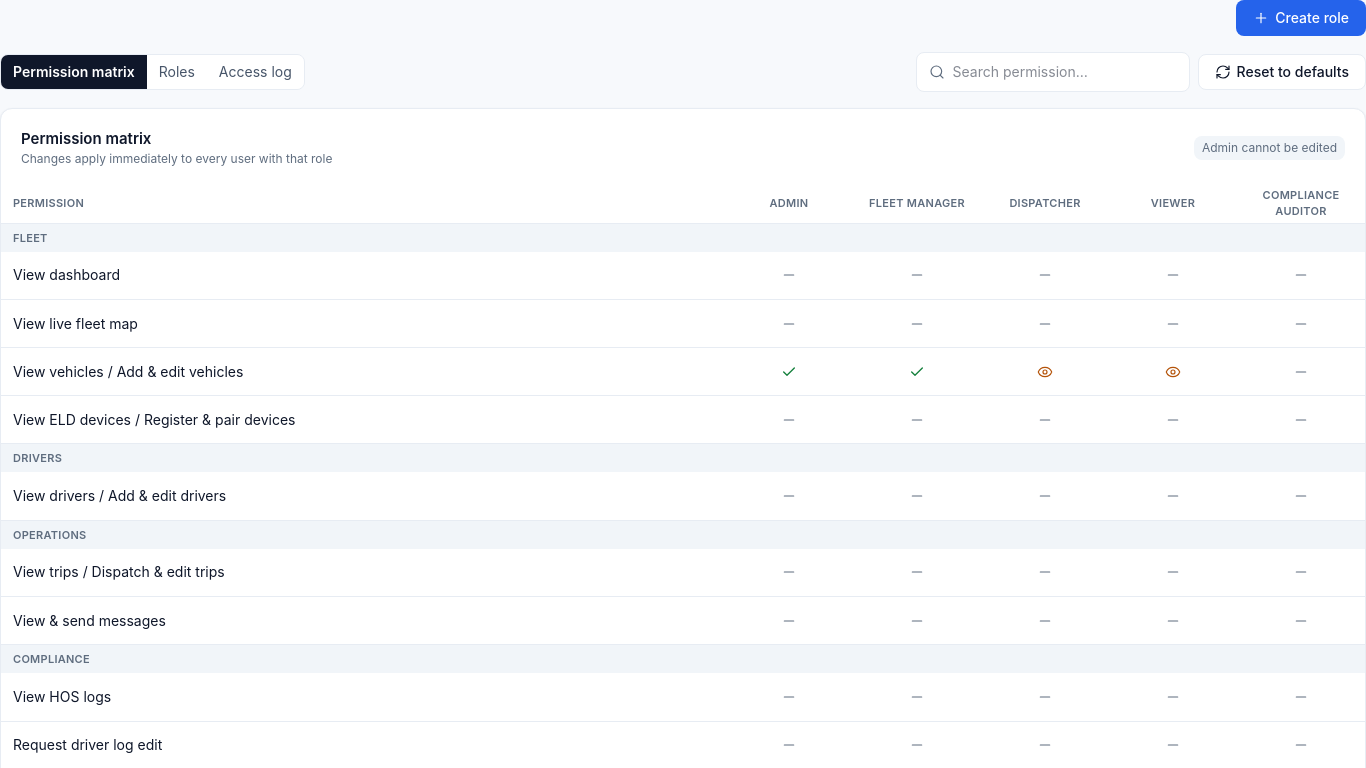
RolesPage — W-19 permission matrix › renders populated Access log entries
expect the text "View vehicles / Add & edit vehicles" is shown: met, box x1=1 y1=348 x2=725 y2=396
Click the button "Access log" at (255, 72), box x1=207 y1=55 x2=304 y2=89
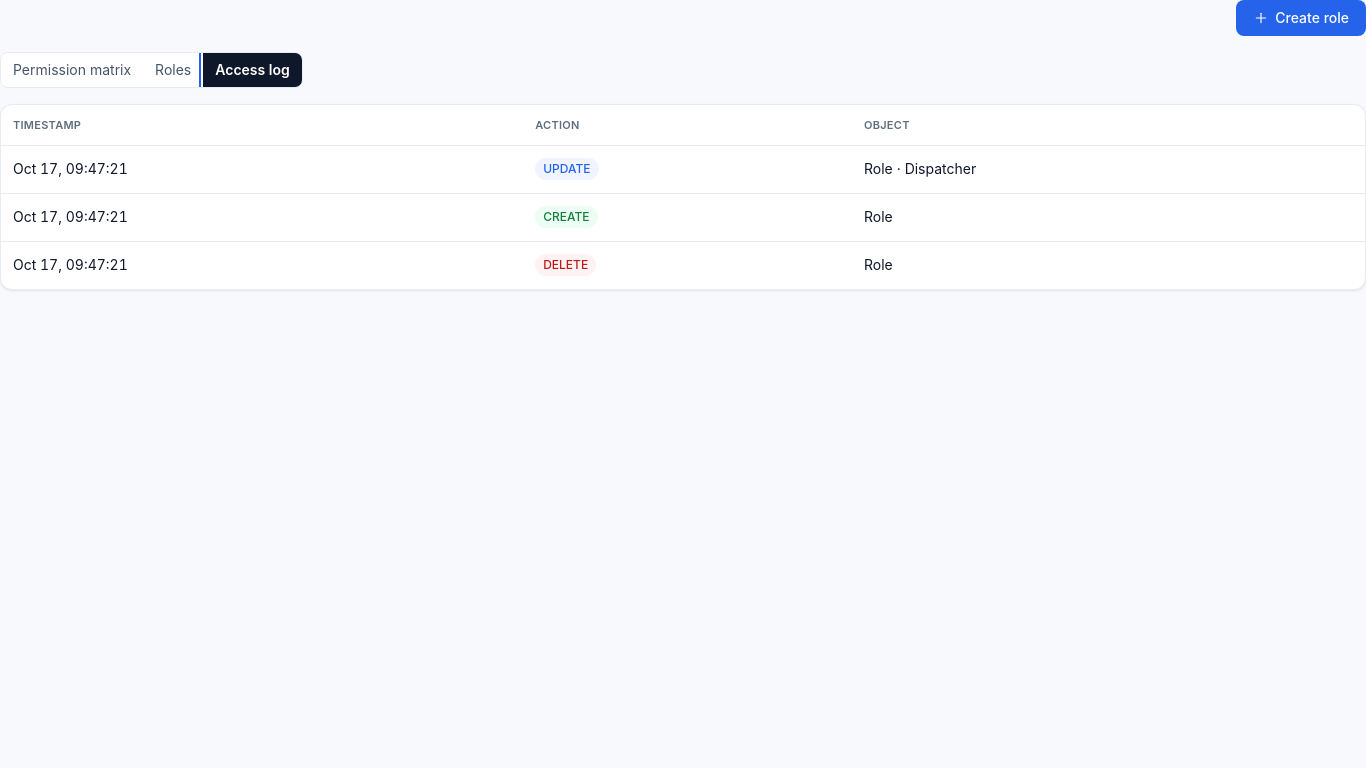
expect the text "Role · Dispatcher" is shown: met, box x1=852 y1=145 x2=1365 y2=193
